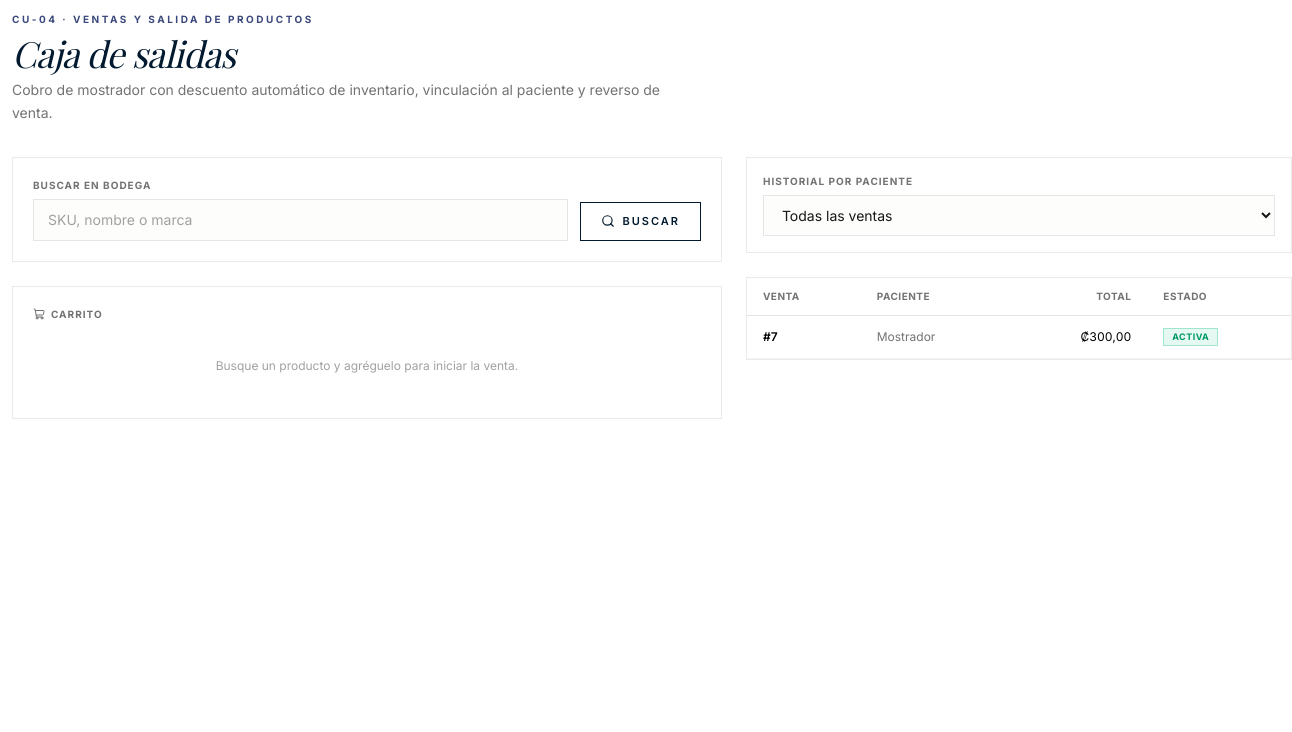
Test: VentasPage › bajar la cantidad a cero saca la línea del carrito
Type "ray" into the field labelled "Buscar en bodega" at (300, 220), box [33,198,568,240]
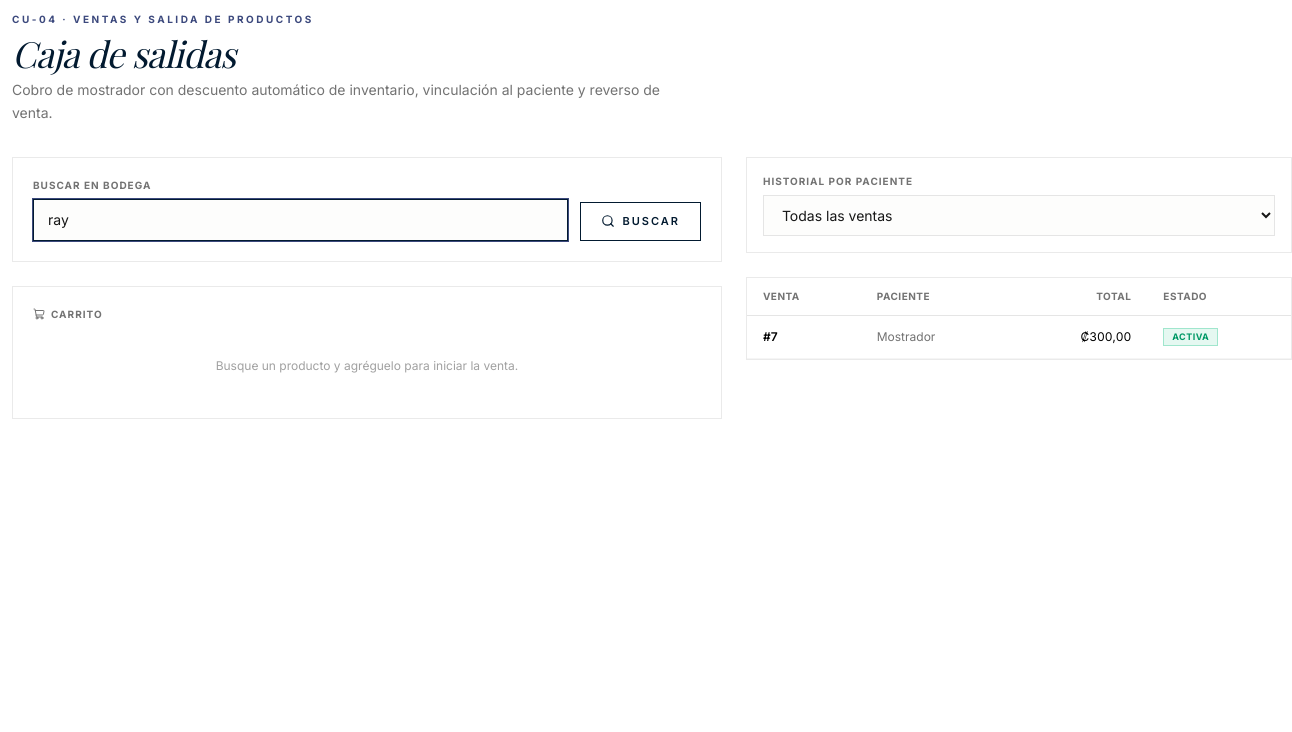
Click the button "Buscar" at (640, 221), box [580,202,701,240]
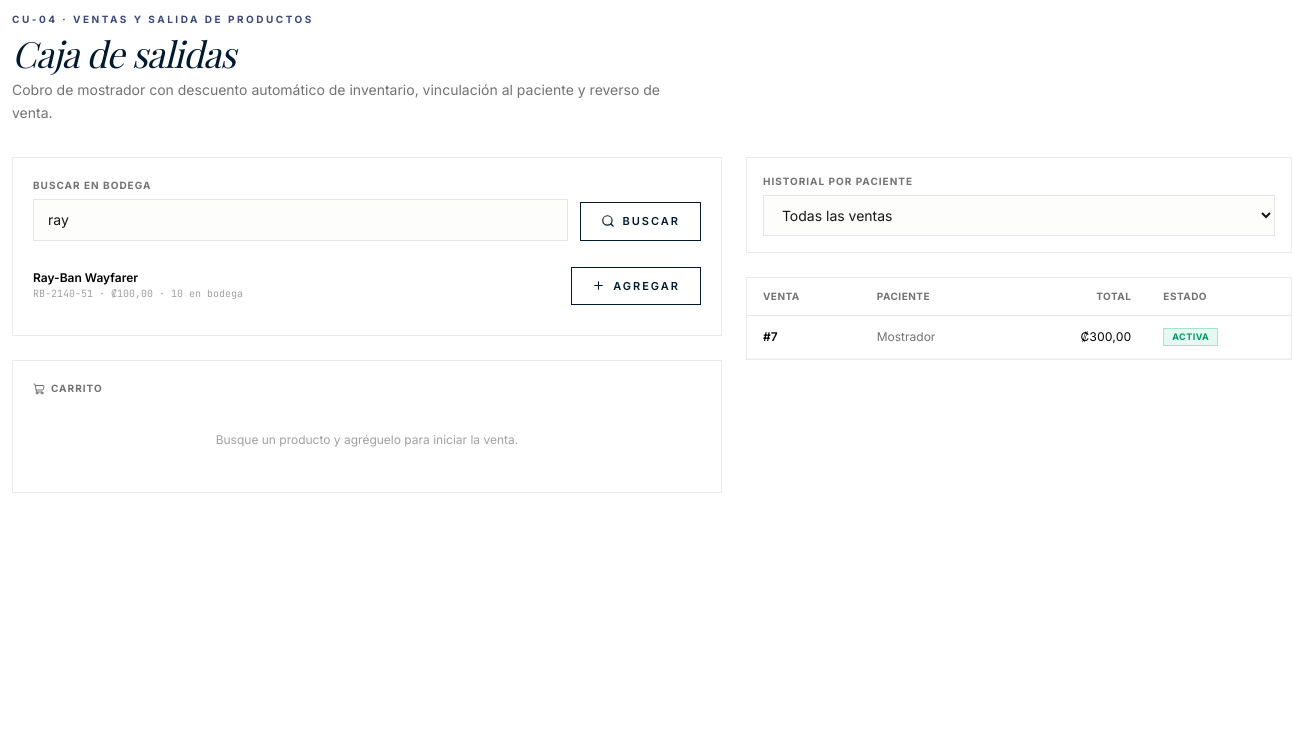
Click the button "Agregar" at (636, 286), box [571,266,701,305]
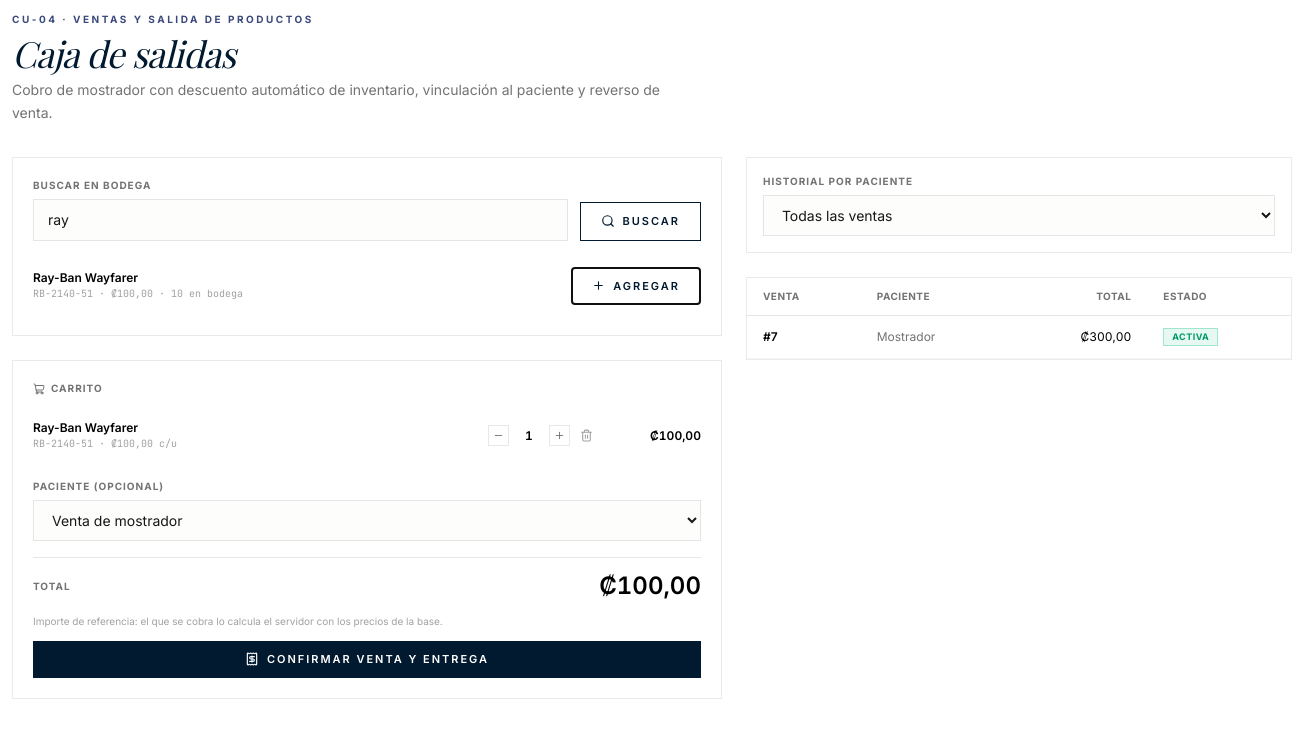
Click the button named "Quitar una unidad" at (498, 436), box [488,425,509,446]
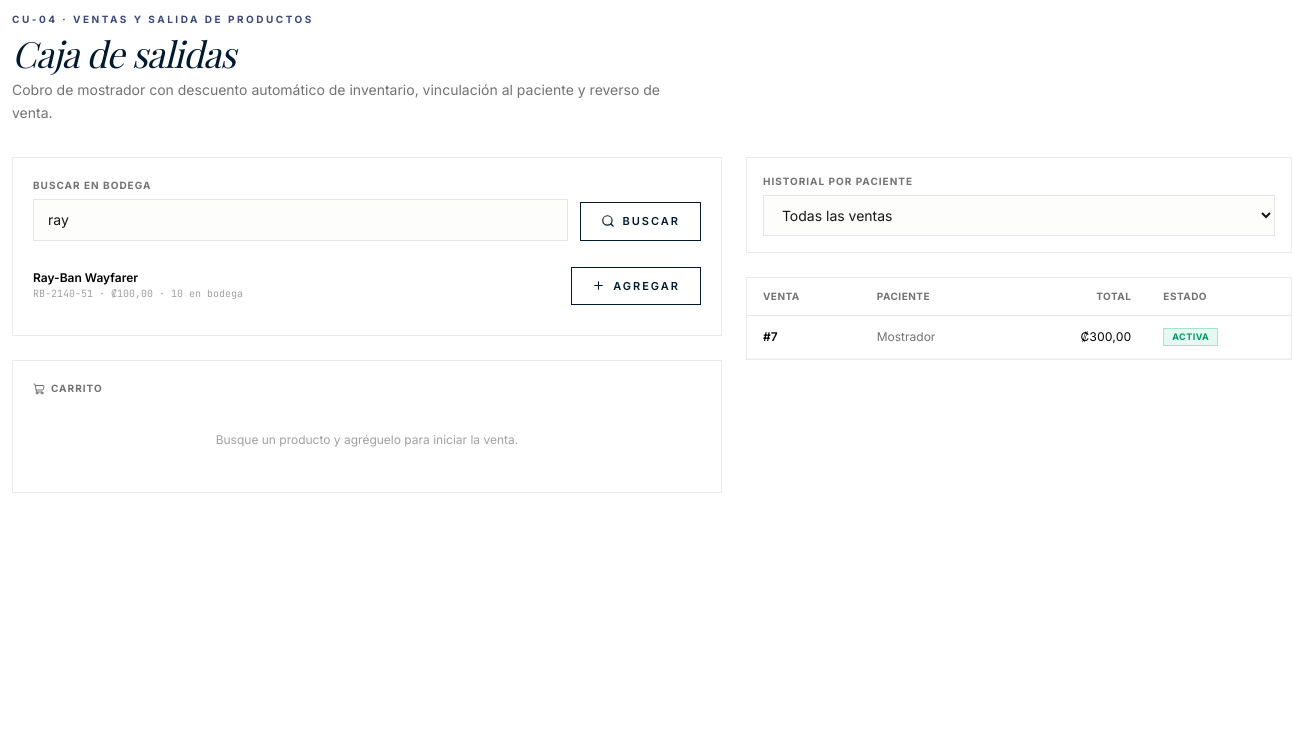
Now the text "Busque un producto y agréguelo para iniciar la venta." is shown, box [216,432,518,447]
